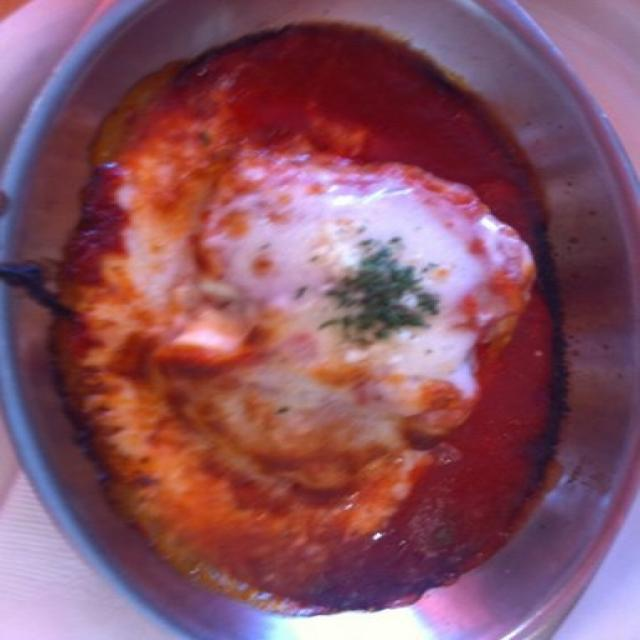Lasagna: (141, 153, 545, 509)
